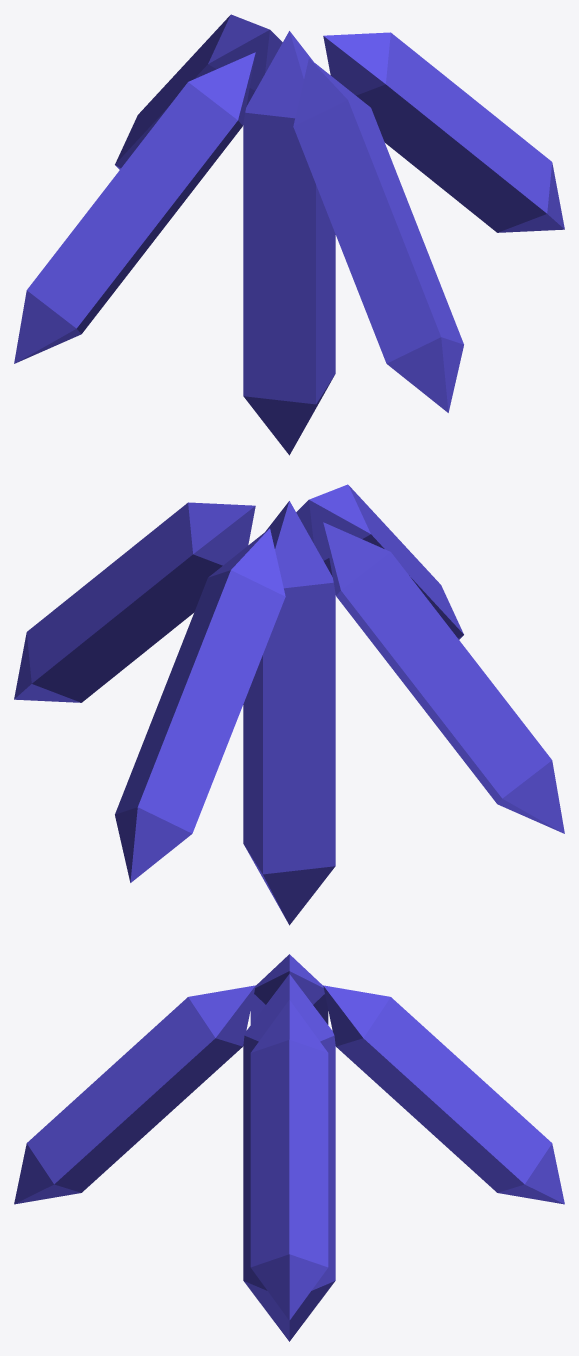
File: island4_crystals.fbx
3 renders of one model, top to bottom at view 1: azimuth 30°, elevation 25°; view 2: azimuth 150°, elevation 25°; view 3: azimuth 270°, elevation 25°, orthographic. The views are drawn at different scales.
Parts seen in each view (by area): view 1: island4_crystals; view 2: island4_crystals; view 3: island4_crystals.
Boxes of the visible parts, x1=… form: island4_crystals: x1=14, y1=14, x2=564, y2=455; island4_crystals: x1=14, y1=484, x2=564, y2=925; island4_crystals: x1=14, y1=954, x2=564, y2=1341.
Bounding box in the file's own units: 6538 × 4820 × 6538.
